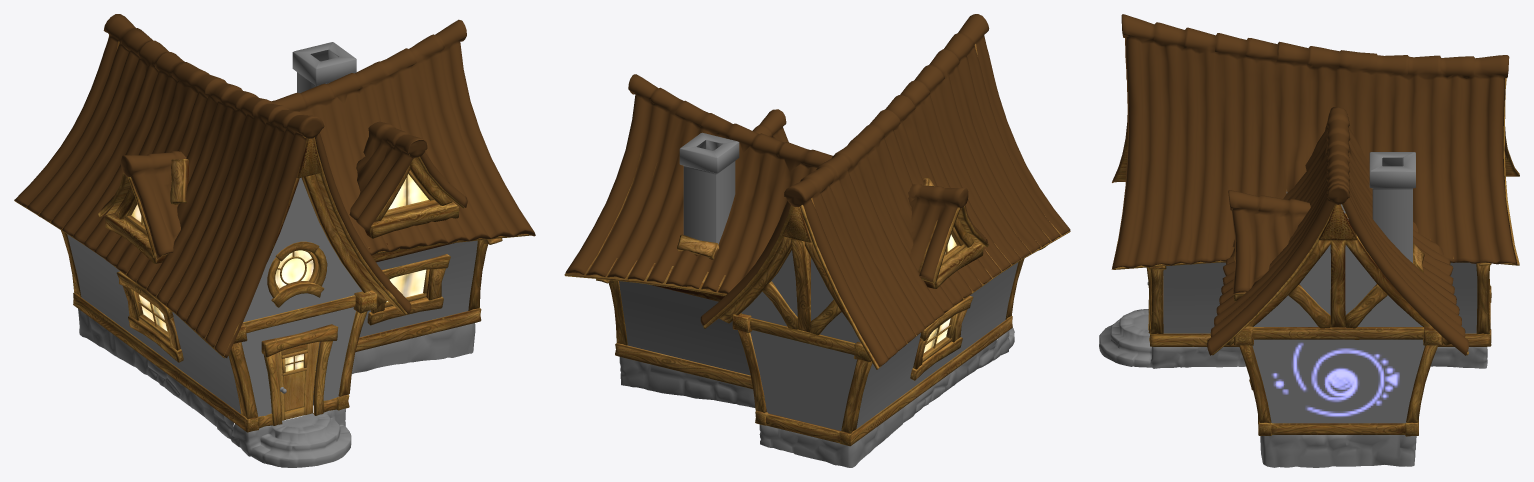
Rendered from House.fbx.
The picture shows the model from 3 angles, left to right: view 1: azimuth 30°, elevation 25°; view 2: azimuth 150°, elevation 25°; view 3: azimuth 270°, elevation 25°; orthographic projection. The views are drawn at different scales.
Parts seen in each view (by area): view 1: roof_1_low_MH_part1_0.001; view 2: roof_1_low_MH_part1_0.001; view 3: roof_1_low_MH_part1_0.001.
Boxes of the visible parts, x1=… form: roof_1_low_MH_part1_0.001: x1=14, y1=14, x2=535, y2=467; roof_1_low_MH_part1_0.001: x1=564, y1=14, x2=1070, y2=467; roof_1_low_MH_part1_0.001: x1=1099, y1=14, x2=1519, y2=467.
Bounding box in the file's own units: 875 × 792 × 887.
